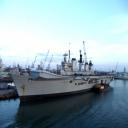Portanaves: (9, 40, 115, 105)
